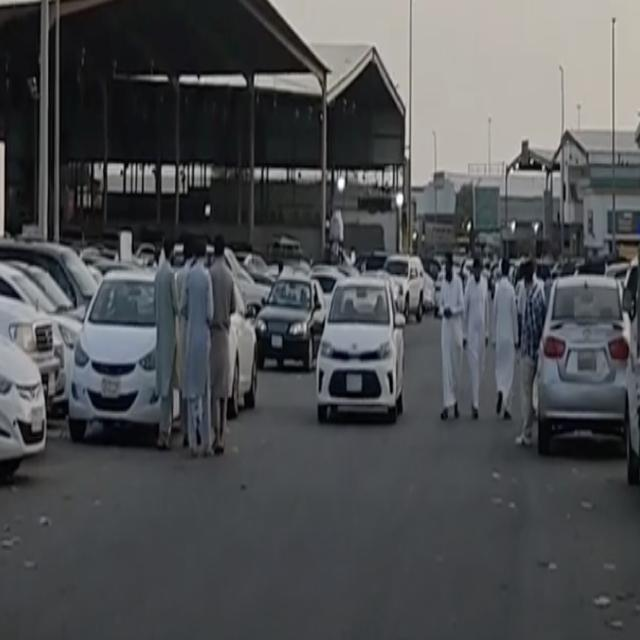license_plate: (576, 349, 598, 374), (101, 379, 120, 400), (31, 406, 43, 434), (346, 374, 362, 394), (271, 334, 283, 348), (48, 382, 55, 396)
